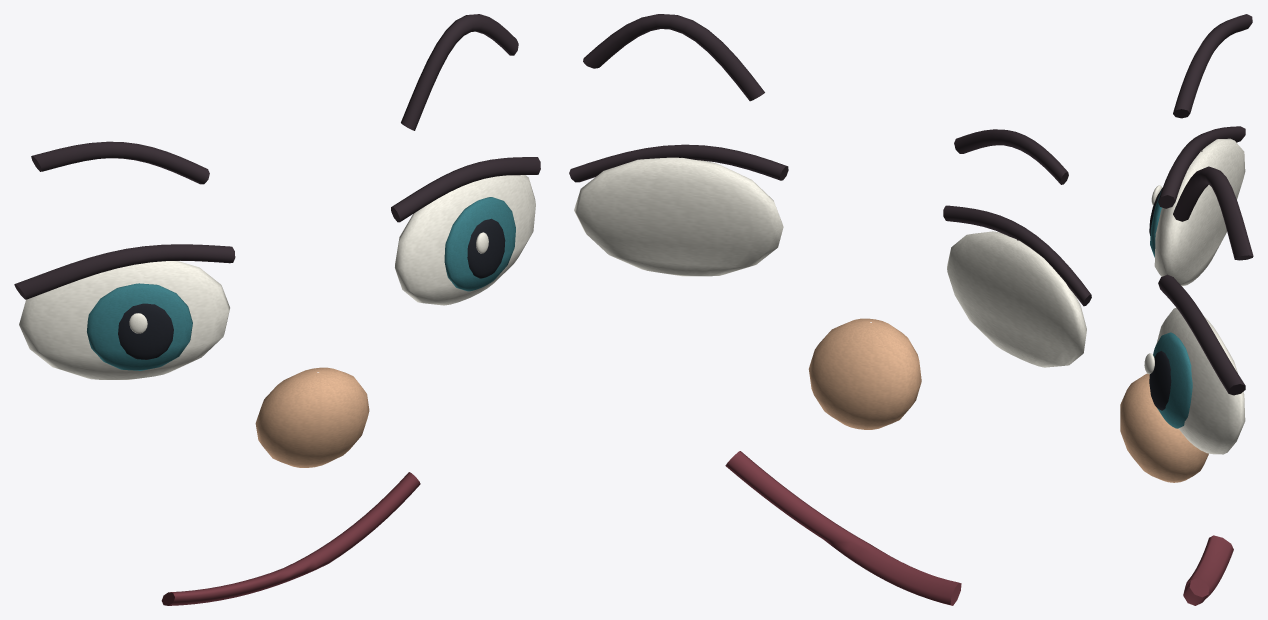
Rendered from face_confident.gltf.
The picture shows the model from 3 angles, left to right: view 1: azimuth 30°, elevation 25°; view 2: azimuth 150°, elevation 25°; view 3: azimuth 270°, elevation 25°; orthographic projection.
Parts seen in each view (by area): view 1: Quiet Confidence; view 2: Quiet Confidence; view 3: Quiet Confidence.
Boxes of the visible parts, x1,y1,x2,y2 form: Quiet Confidence: (14,14,540,605); Quiet Confidence: (569,14,1091,605); Quiet Confidence: (1120,14,1253,605).
Size of the model in its own units: 0.2792 by 0.2669 by 0.061.
6 materials, 6 textured.
